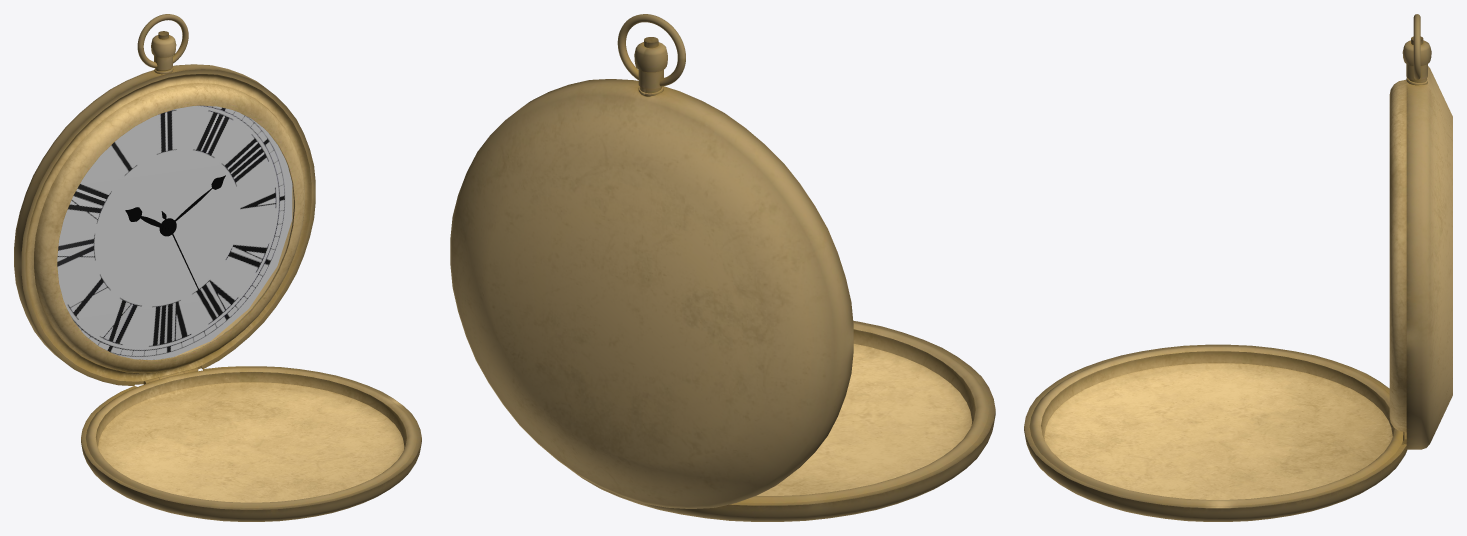
The model's file is Pocket watch.fbx.
The picture shows the model from 3 angles, left to right: view 1: azimuth 30°, elevation 25°; view 2: azimuth 150°, elevation 25°; view 3: azimuth 270°, elevation 25°; orthographic projection. The views are drawn at different scales.
Parts seen in each view (by area): view 1: Watch bottom, Watch top, hands; view 2: Watch bottom, Watch top; view 3: Watch top, Watch bottom.
Boxes of the visible parts, bbox=[...] form: Watch bottom: bbox=[14, 14, 315, 385]; Watch top: bbox=[81, 366, 421, 521]; hands: bbox=[125, 175, 225, 290]; Watch bottom: bbox=[450, 14, 853, 508]; Watch top: bbox=[571, 321, 995, 521]; Watch top: bbox=[1024, 344, 1407, 521]; Watch bottom: bbox=[1389, 14, 1452, 449].
Size of the model in its own units: 97.82 by 124 by 108.
Materials: 1 (1 with a texture image).
